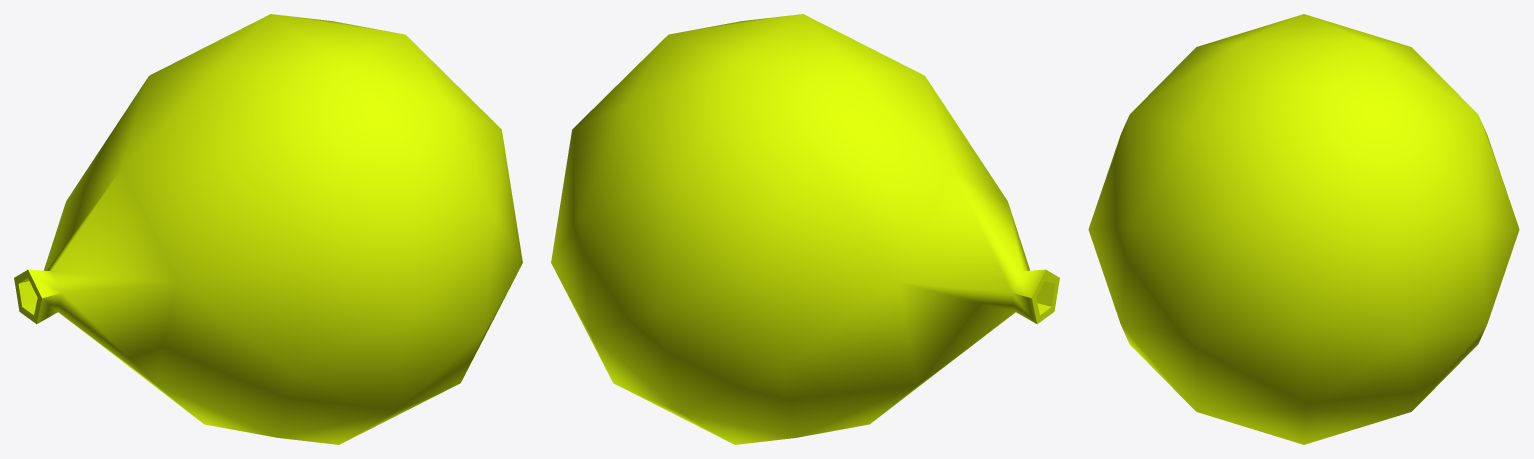
File: Bullet_1.fbx
3 views of the same model, side by side, from view 1: azimuth 30°, elevation 25°; view 2: azimuth 150°, elevation 25°; view 3: azimuth 270°, elevation 25° (orthographic). The views are drawn at different scales.
Visible parts, largest first — view 1: 棱角球; view 2: 棱角球; view 3: 棱角球.
Boxes of the visible parts, x1=… form: 棱角球: x1=14, y1=14, x2=522, y2=444; 棱角球: x1=551, y1=14, x2=1059, y2=444; 棱角球: x1=1088, y1=14, x2=1519, y2=444.
Bounding box in the file's own units: 245 × 190 × 200.
1 material, 1 textured.
